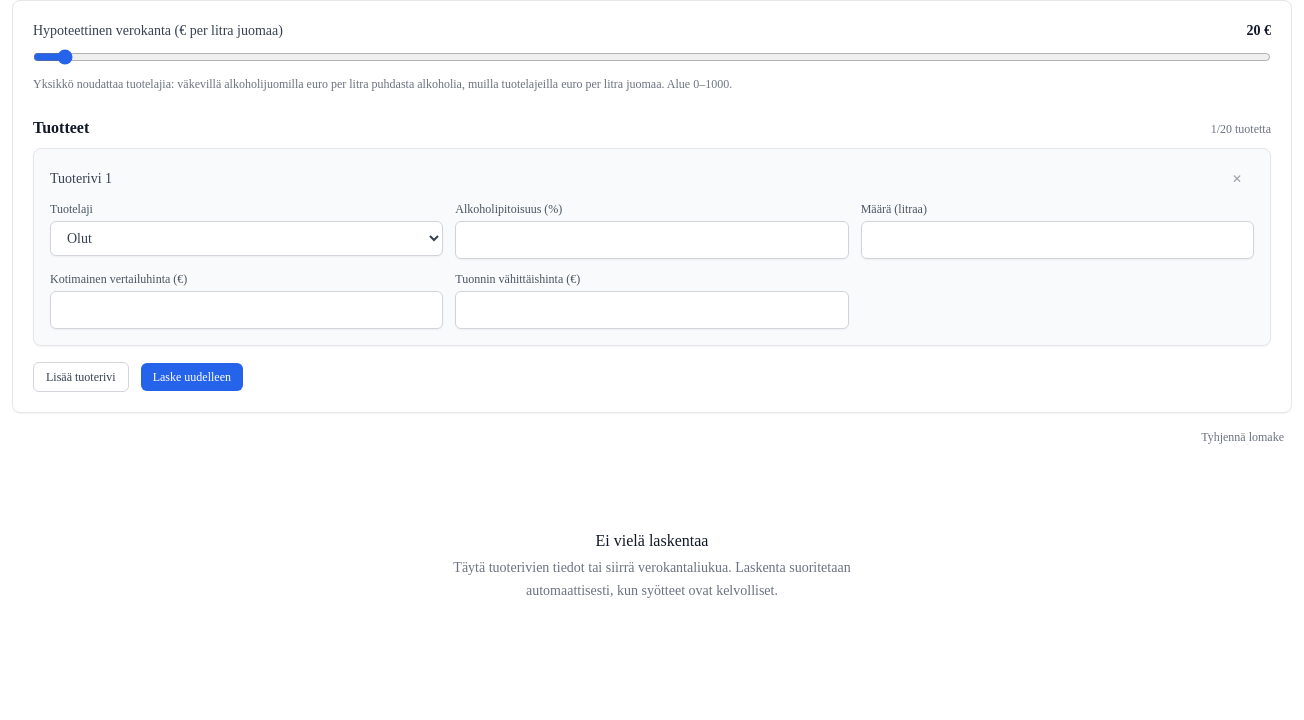
WhatIfPage — result rendering › renders the gap figures with the payload sign convention and the dataset citation
This screenshot has width=1304, height=720.
Step 1. Type "4,7" into the field labelled "Alkoholipitoisuus (%)" → (652, 240), box [455,221,849,259]
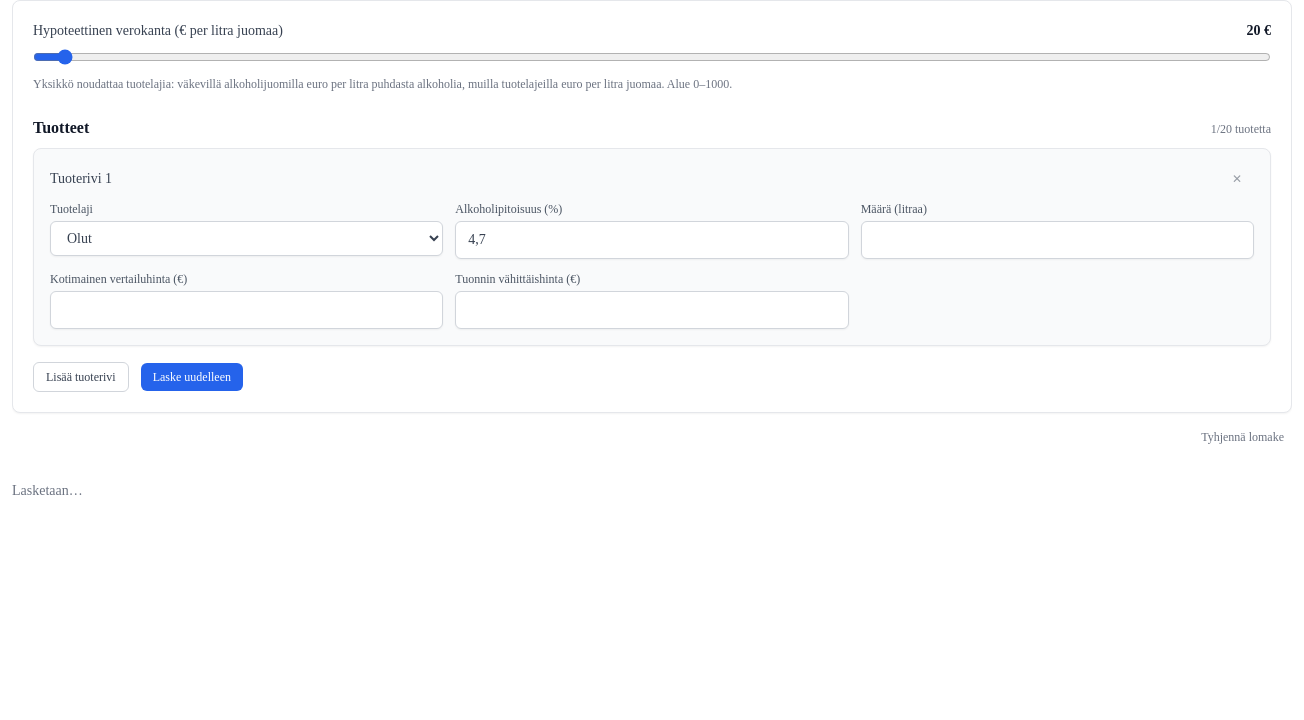
Step 2. Type "1" into the field labelled "Määrä (litraa)" → (1057, 240), box [861,221,1254,259]
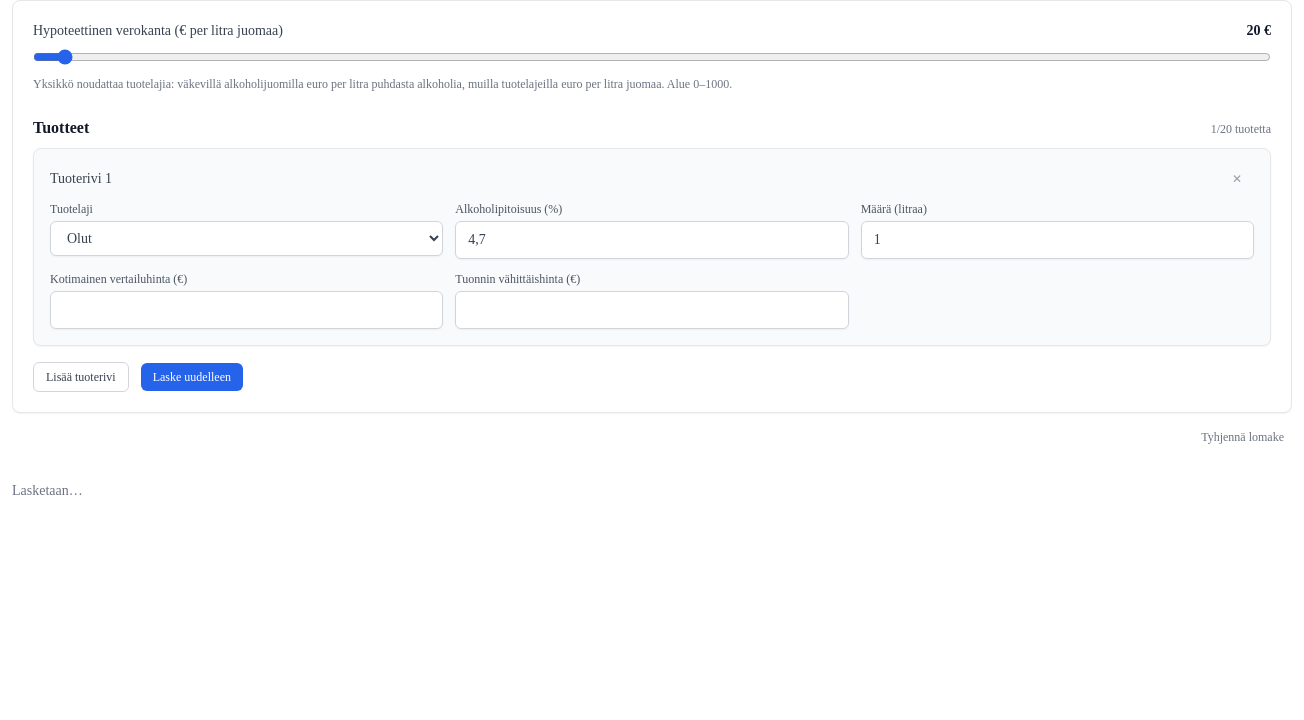
Step 3. Type "12,98" into the field labelled "Kotimainen vertailuhinta (€)" → (247, 310), box [50,291,443,329]
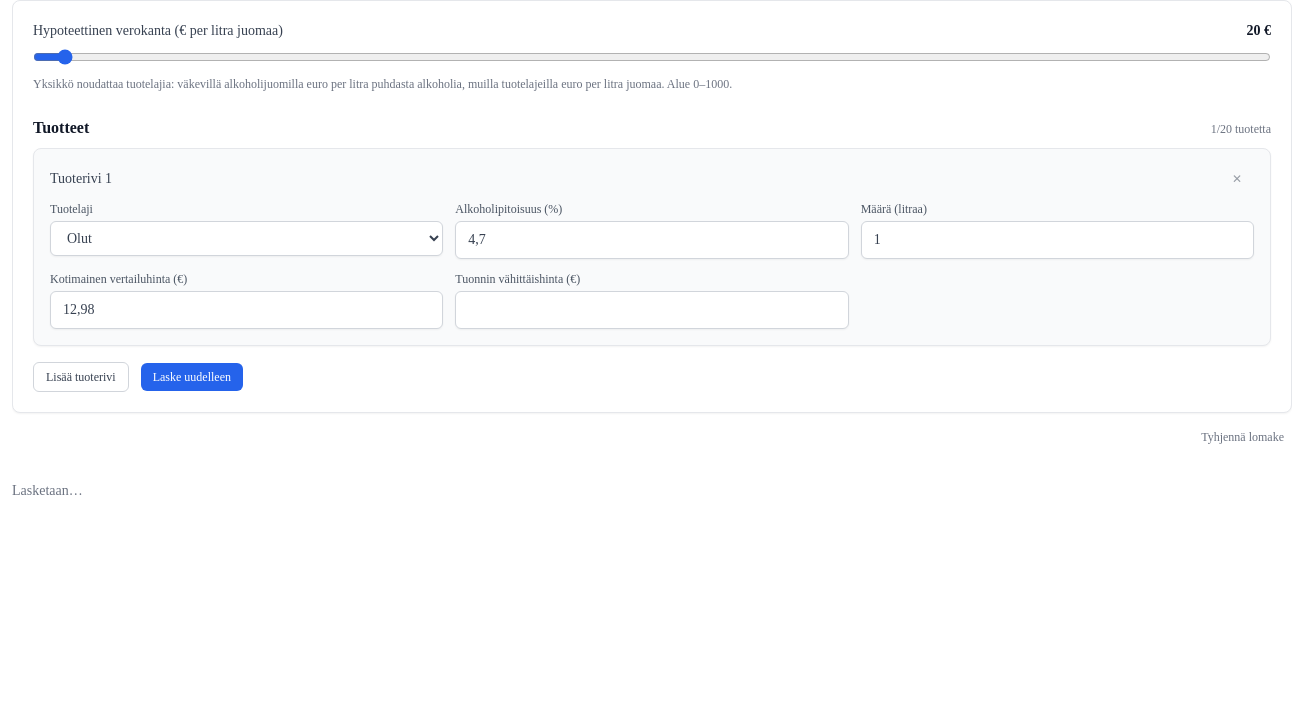
Step 4. Type "0,89" into the field labelled "Tuonnin vähittäishinta (€)" → (652, 310), box [455,291,849,329]
Wait 800 ms
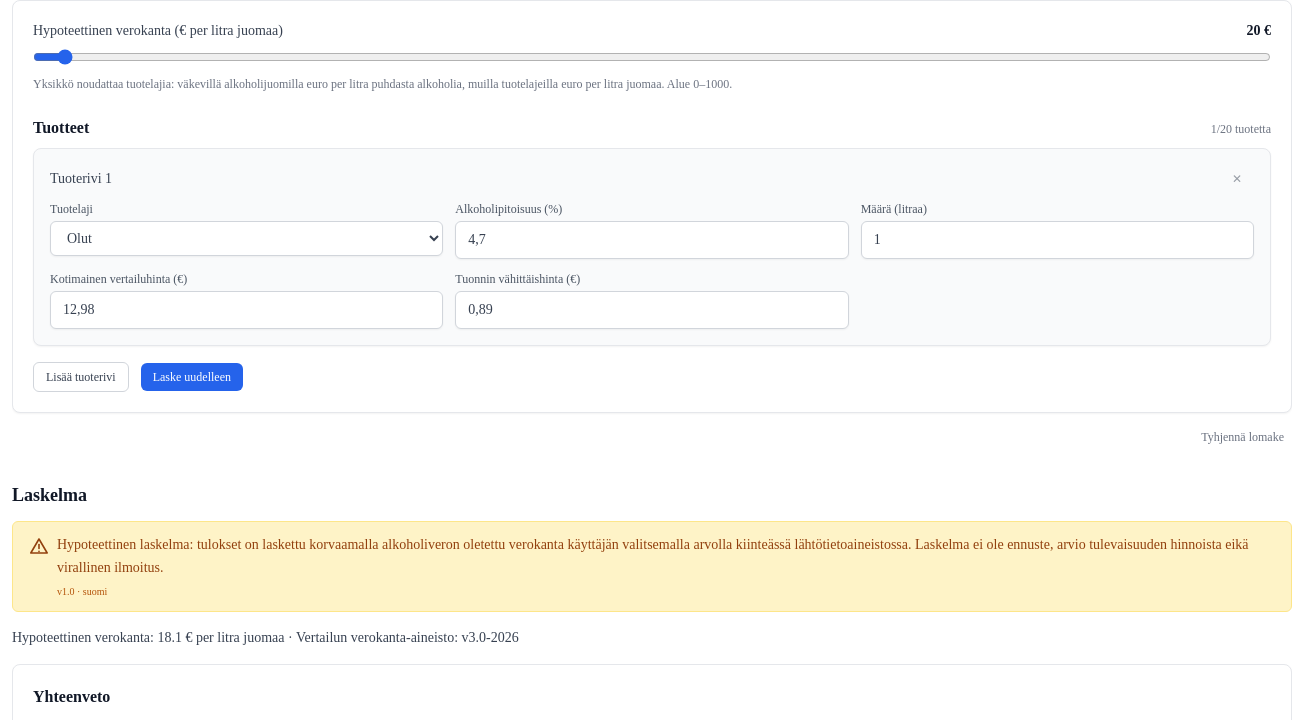
Now the text "Vertailun verokanta-aineisto: v3.0-2026" is shown, box [296,630,519,644]
